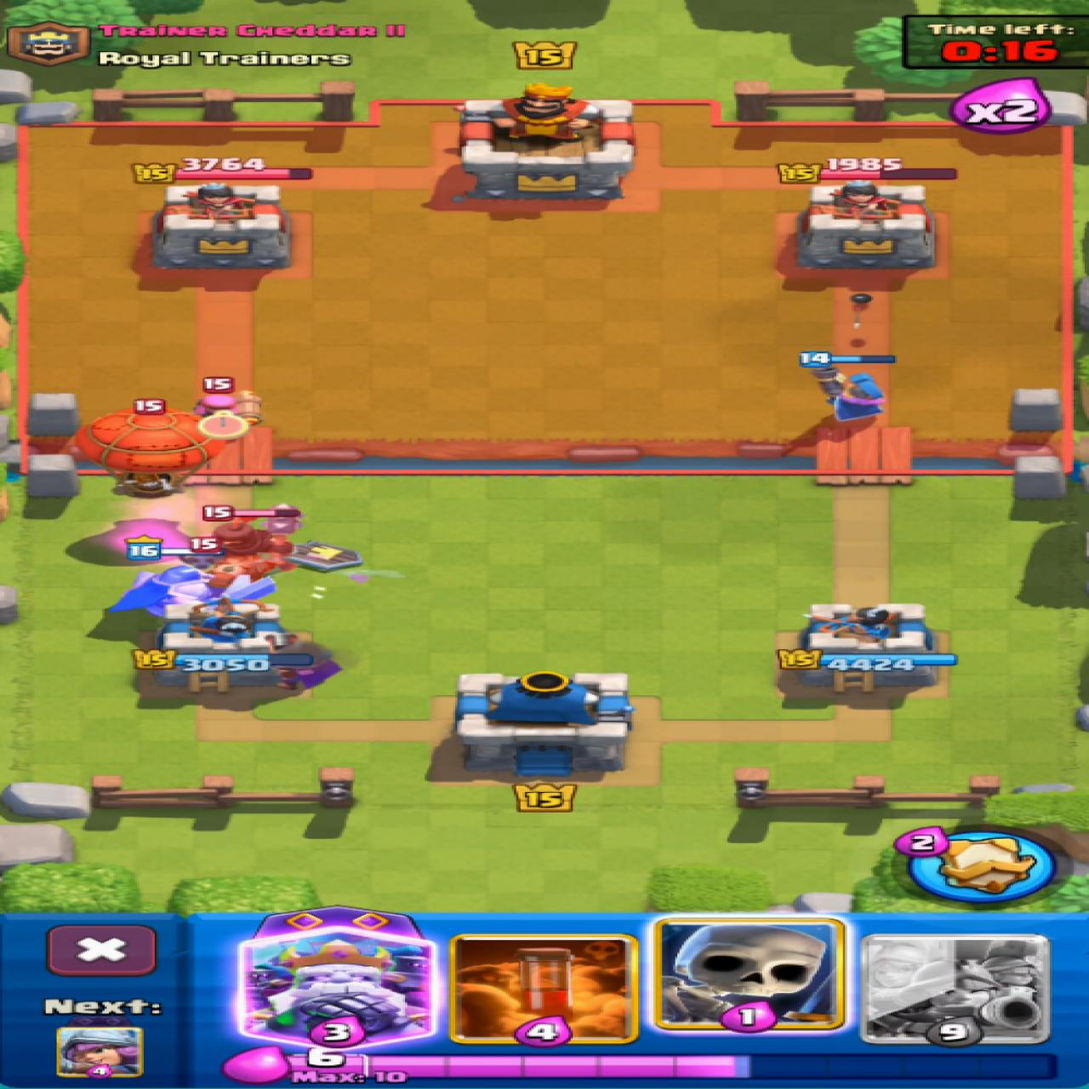Enemy-Balloon: (74, 411, 224, 497)
Enemy-DarkPrince: (205, 504, 301, 587)
Enemy-Firecracker: (194, 378, 259, 424)
Enemy-KingTower: (460, 84, 634, 198)
Enemy-PrincessTower: (797, 180, 934, 266), (152, 184, 290, 269)
